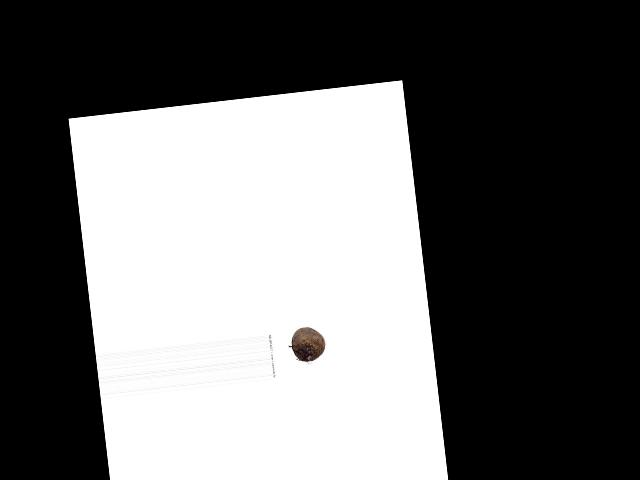beet: (290, 324, 326, 362)
